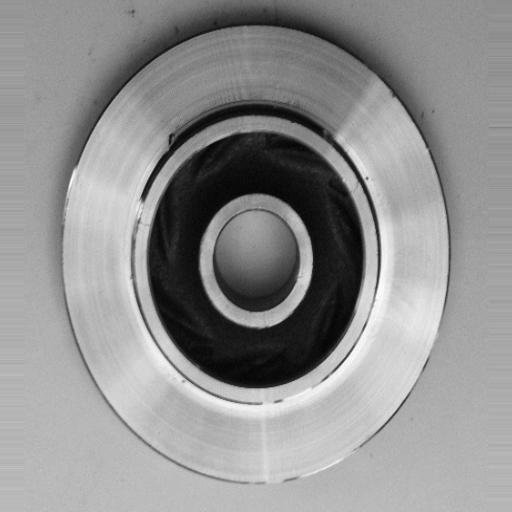crack: (158, 126, 188, 156)
scratch: (249, 375, 336, 420), (124, 188, 149, 261)
unpolished_casting: (59, 16, 455, 490)
